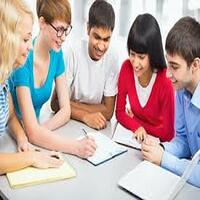person: (165, 7, 200, 94), (3, 1, 38, 77), (127, 14, 163, 82), (33, 1, 70, 59), (79, 1, 114, 61)
